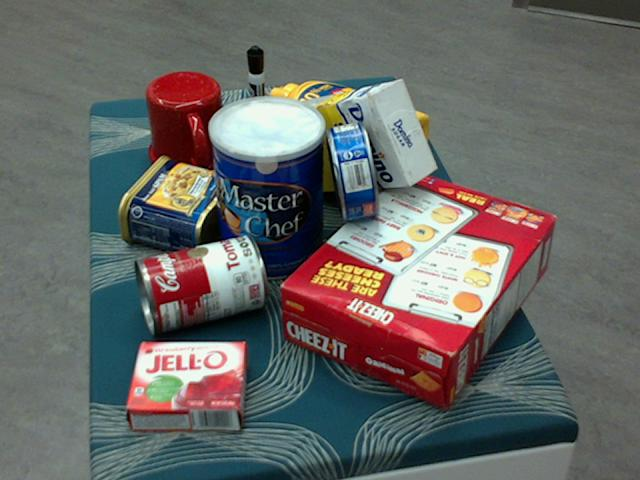cracker_box: (278, 168, 556, 407)
gelatin_box: (126, 340, 247, 430)
large_marker: (246, 45, 268, 148)
master_chef_can: (208, 97, 324, 283)
mug: (145, 71, 231, 174)
mustard_bottle: (268, 80, 428, 175)
potted_meat_can: (117, 156, 240, 255)
sugar_box: (271, 80, 436, 191)
tomato_soup_can: (133, 235, 265, 332)
tuna_fish_can: (326, 119, 380, 219)
